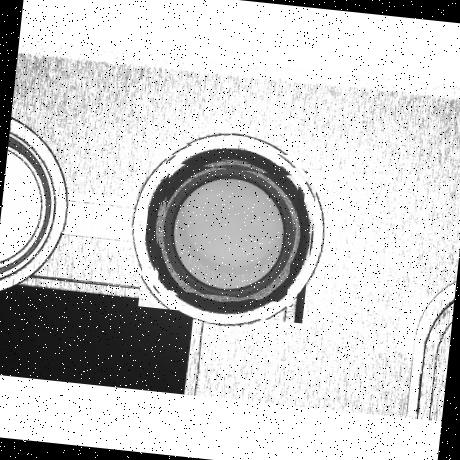Hole: (138, 141, 320, 323)
Hole2: (152, 153, 308, 307)
Hole3: (157, 161, 299, 303)
Hole4: (168, 172, 288, 292)
